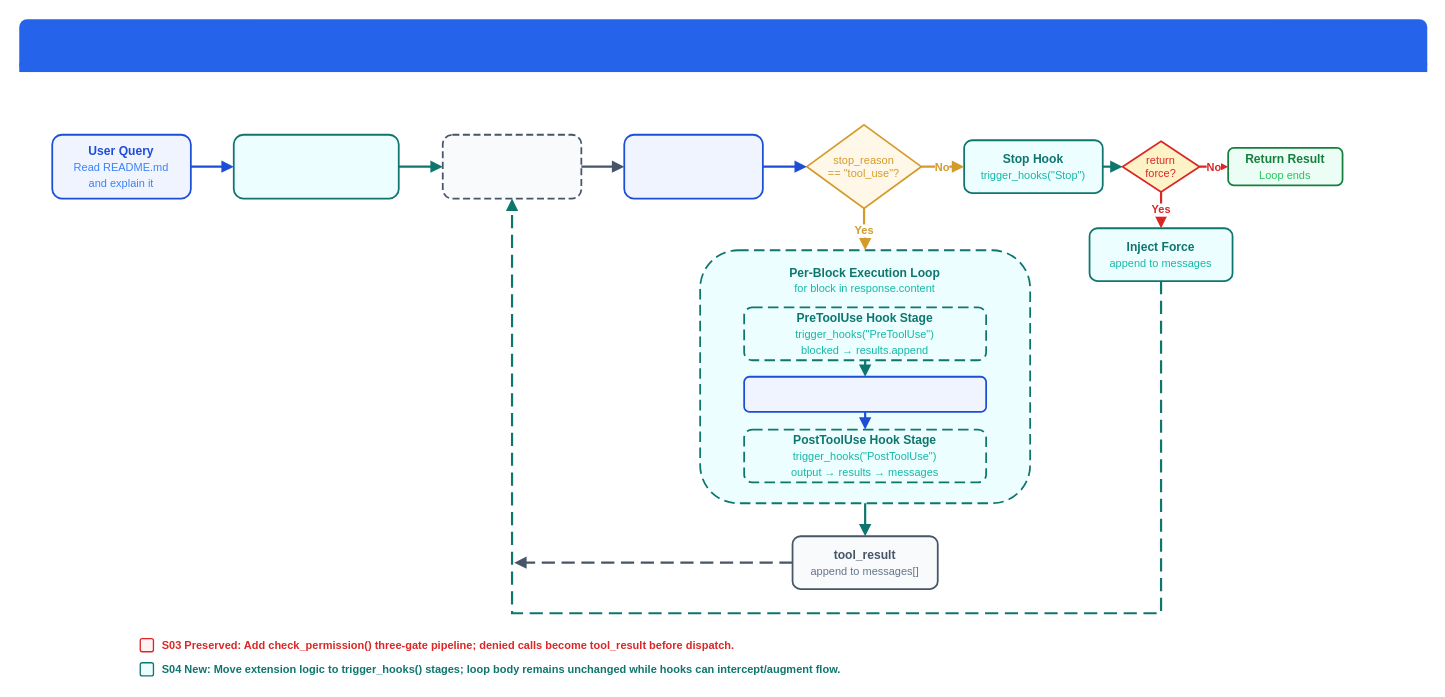
The diagram is 1445 pixels wide and 697 high, and some of its shapes have lost their labels. The centre of each missing label's shape, as x and y in pixels:
"LLM stop_reason check" belongs at [693,166].
"messages[] append user message" belongs at [511,166].
"s04 Hooks - Loop Unchanged, Extension Logic via Hooks" belongs at [723,45].
"TOOL_HANDLERS handler(**input)" belongs at [864,393].
"UserPromptSubmit context_inject_hook" belongs at [315,166].
